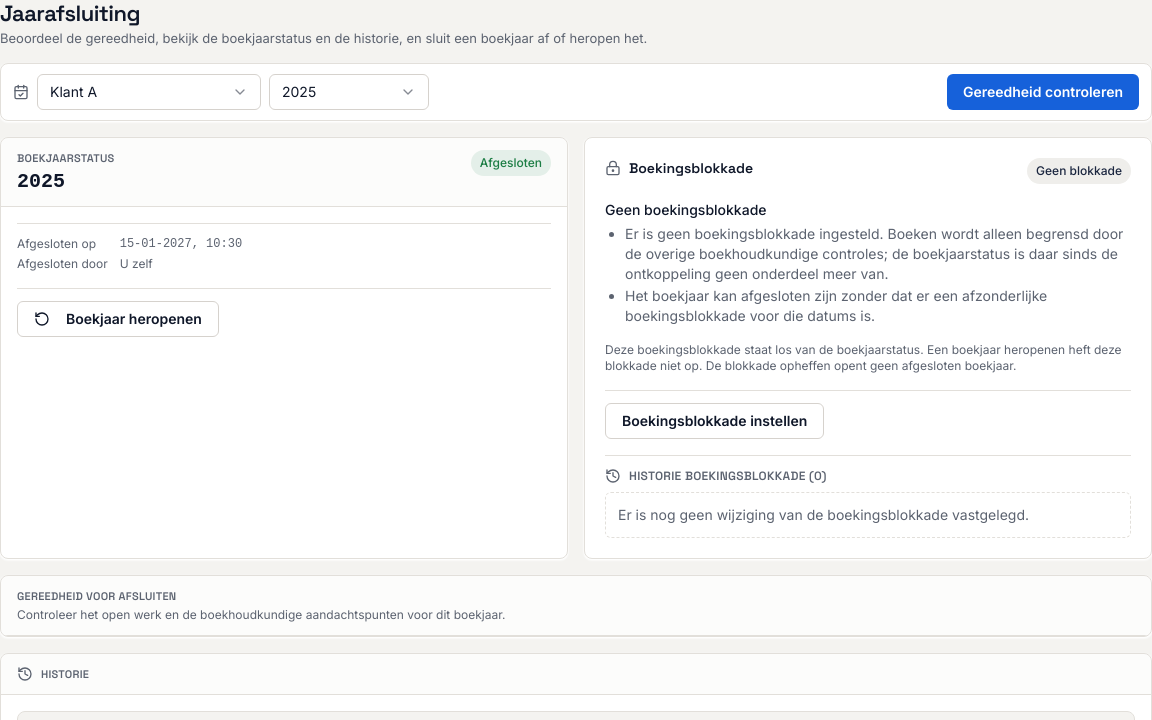
Scenario: Idempotente uitkomsten verdubbelen niets › 12. reopened = false is een mededeling; er komt geen tweede bewijs en geen tweede regel
Click the button with test id "jaar-heropenen" at (118, 319), box [17, 301, 219, 337]
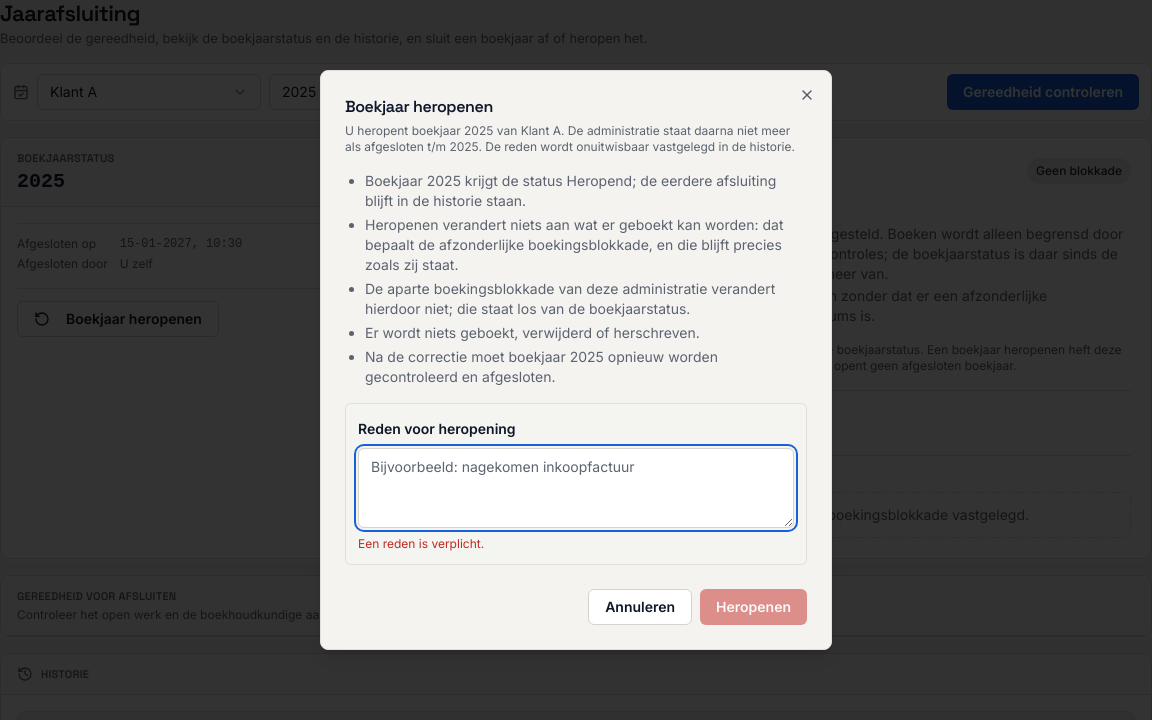
Type "Nagekomen inkoopfactuur" into the text box with test id "jaar-heropenen-reden" at (576, 488), box [358, 448, 794, 528]
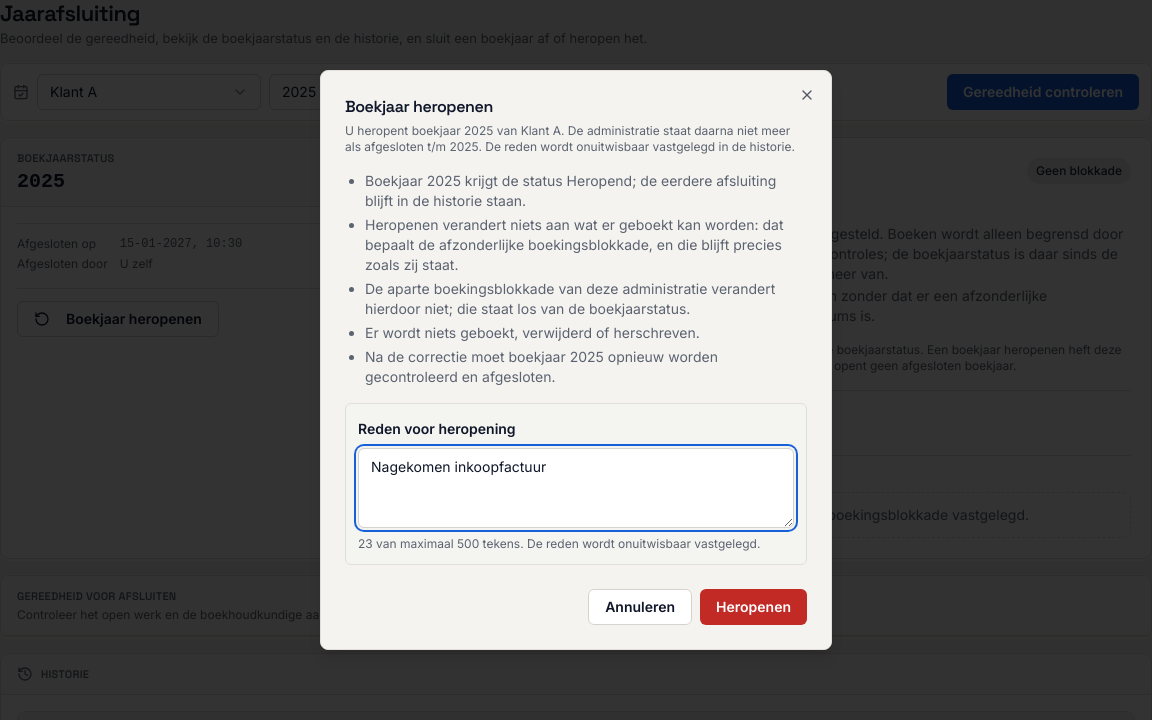
Click the button with test id "jaar-heropenen-bevestigen" at (754, 607), box [700, 589, 807, 625]
(page scrolled)
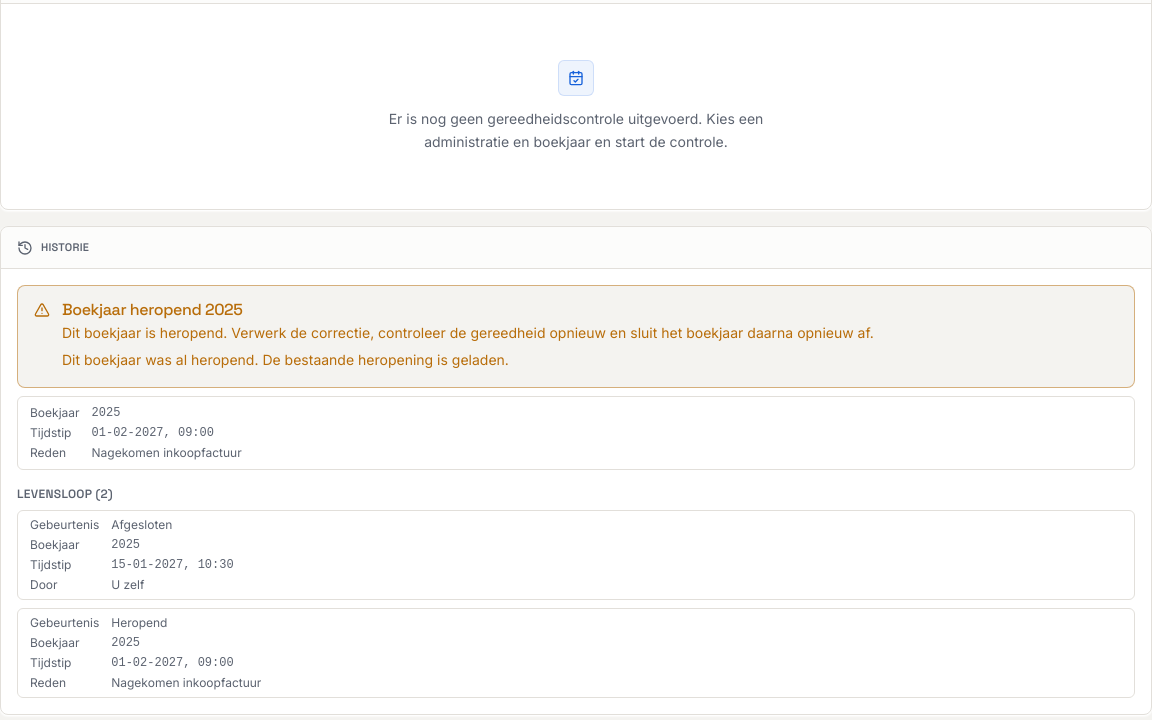
Expected: the text with test id "jaar-al-heropend" shows "Dit boekjaar was al heropend.", [62, 351, 509, 368]
Expected: the number of elements with test id "jaar-heropeningsbewijs" is 1, [17, 285, 1135, 470]
Expected: the number of list items with test id "jaar-gebeurtenis" is 2, [17, 510, 1135, 600]; [17, 608, 1135, 698]
